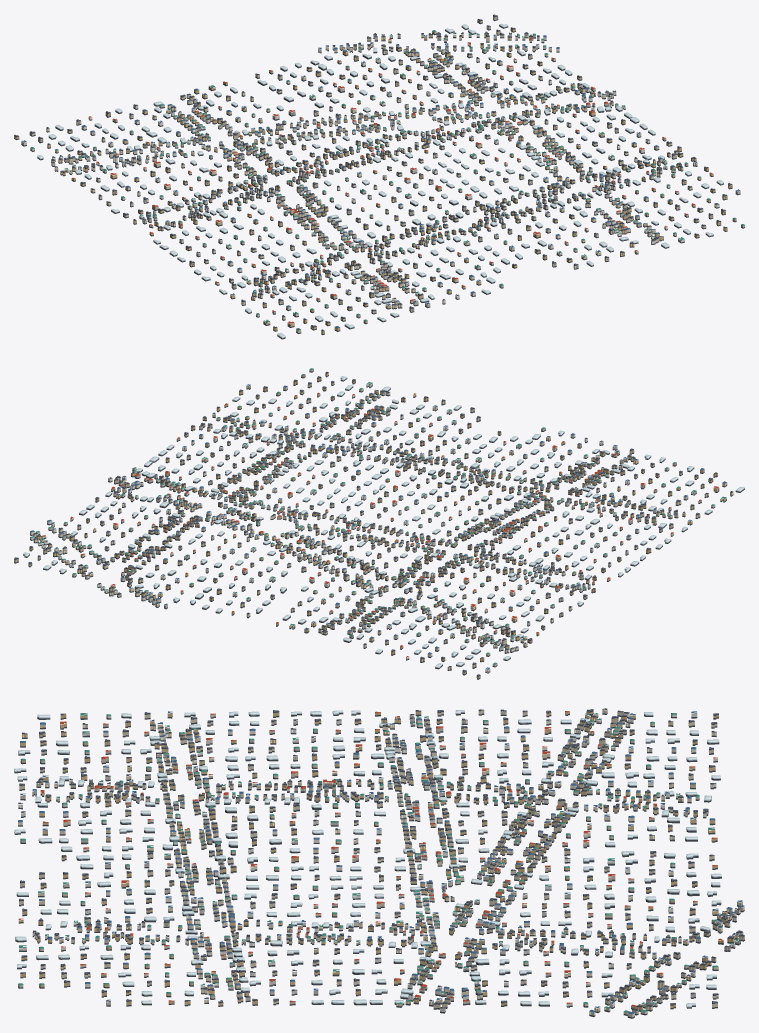
File: osm_buildings_T_E06_S04.glb
The picture shows the model from 3 angles, top to bottom: view 1: azimuth 30°, elevation 25°; view 2: azimuth 150°, elevation 25°; view 3: azimuth 270°, elevation 25°; orthographic projection. The views are drawn at different scales.
Parts seen in each view (by area): view 1: OSM_T_E06_S04_foundation, OSM_T_E06_S04_greenhouse_blend, OSM_T_E06_S04_wall_cream_stucco, OSM_T_E06_S04_wall_french_ochre, OSM_T_E06_S04_roof_mansard_slate, OSM_T_E06_S04_wall_pastel_sand, OSM_T_E06_S04_wall_warm_white, OSM_T_E06_S04_roof_alpine_blue, OSM_T_E06_S04_roof_mansard_deck, OSM_T_E06_S04_roof_mint_metal, OSM_T_E06_S04_roof_terracotta, OSM_T_E06_S04_balcony_railing; view 2: OSM_T_E06_S04_foundation, OSM_T_E06_S04_greenhouse_blend, OSM_T_E06_S04_wall_cream_stucco, OSM_T_E06_S04_wall_french_ochre, OSM_T_E06_S04_roof_mansard_slate, OSM_T_E06_S04_wall_pastel_sand, OSM_T_E06_S04_wall_warm_white, OSM_T_E06_S04_roof_alpine_blue, OSM_T_E06_S04_roof_mansard_deck, OSM_T_E06_S04_roof_mint_metal, OSM_T_E06_S04_roof_terracotta; view 3: OSM_T_E06_S04_foundation, OSM_T_E06_S04_greenhouse_blend, OSM_T_E06_S04_wall_cream_stucco, OSM_T_E06_S04_wall_french_ochre, OSM_T_E06_S04_roof_mansard_slate, OSM_T_E06_S04_wall_pastel_sand, OSM_T_E06_S04_wall_warm_white, OSM_T_E06_S04_roof_alpine_blue, OSM_T_E06_S04_roof_mansard_deck, OSM_T_E06_S04_roof_mint_metal, OSM_T_E06_S04_roof_terracotta.
Boxes of the visible parts, x1,y1,x2,y2 form: OSM_T_E06_S04_foundation: [14, 18, 744, 339]; OSM_T_E06_S04_greenhouse_blend: [37, 23, 723, 338]; OSM_T_E06_S04_wall_cream_stucco: [29, 16, 744, 332]; OSM_T_E06_S04_wall_french_ochre: [14, 28, 736, 333]; OSM_T_E06_S04_roof_mansard_slate: [14, 15, 732, 331]; OSM_T_E06_S04_wall_pastel_sand: [90, 26, 740, 317]; OSM_T_E06_S04_wall_warm_white: [21, 34, 719, 316]; OSM_T_E06_S04_roof_alpine_blue: [22, 32, 740, 330]; OSM_T_E06_S04_roof_mansard_deck: [15, 14, 731, 326]; OSM_T_E06_S04_roof_mint_metal: [30, 30, 744, 322]; OSM_T_E06_S04_roof_terracotta: [72, 38, 712, 323]; OSM_T_E06_S04_balcony_railing: [30, 17, 731, 327]; OSM_T_E06_S04_foundation: [14, 370, 744, 679]; OSM_T_E06_S04_greenhouse_blend: [23, 376, 744, 667]; OSM_T_E06_S04_wall_cream_stucco: [14, 369, 727, 674]; OSM_T_E06_S04_wall_french_ochre: [29, 372, 733, 678]; OSM_T_E06_S04_roof_mansard_slate: [14, 372, 733, 676]; OSM_T_E06_S04_wall_pastel_sand: [33, 385, 701, 650]; OSM_T_E06_S04_wall_warm_white: [30, 383, 715, 672]; OSM_T_E06_S04_roof_alpine_blue: [30, 384, 726, 669]; OSM_T_E06_S04_roof_mansard_deck: [15, 376, 712, 675]; OSM_T_E06_S04_roof_mint_metal: [30, 368, 726, 664]; OSM_T_E06_S04_roof_terracotta: [41, 392, 718, 657]; OSM_T_E06_S04_foundation: [14, 712, 744, 1018]; OSM_T_E06_S04_greenhouse_blend: [14, 710, 721, 1007]; OSM_T_E06_S04_wall_cream_stucco: [18, 709, 744, 1011]; OSM_T_E06_S04_wall_french_ochre: [18, 710, 734, 1010]; OSM_T_E06_S04_roof_mansard_slate: [18, 708, 744, 1010]; OSM_T_E06_S04_wall_pastel_sand: [20, 711, 742, 1013]; OSM_T_E06_S04_wall_warm_white: [18, 712, 736, 1017]; OSM_T_E06_S04_roof_alpine_blue: [18, 711, 744, 1014]; OSM_T_E06_S04_roof_mansard_deck: [19, 709, 743, 1005]; OSM_T_E06_S04_roof_mint_metal: [18, 713, 740, 1012]; OSM_T_E06_S04_roof_terracotta: [18, 711, 723, 1006].
Bounding box in the file's own units: 1946 × 60.68 × 1954.
